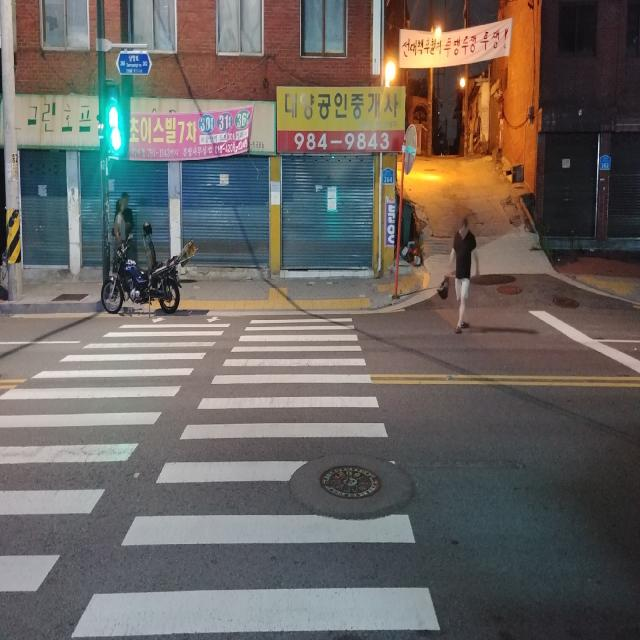초록불: (103, 82, 124, 158)
횡단보도: (0, 315, 440, 639)
